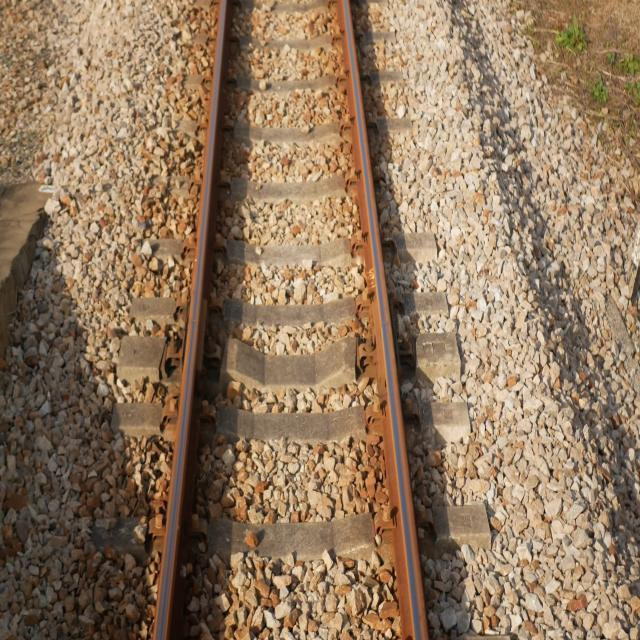Plant: (555, 14, 590, 54), (607, 50, 639, 77), (625, 80, 639, 107), (594, 78, 609, 102)
